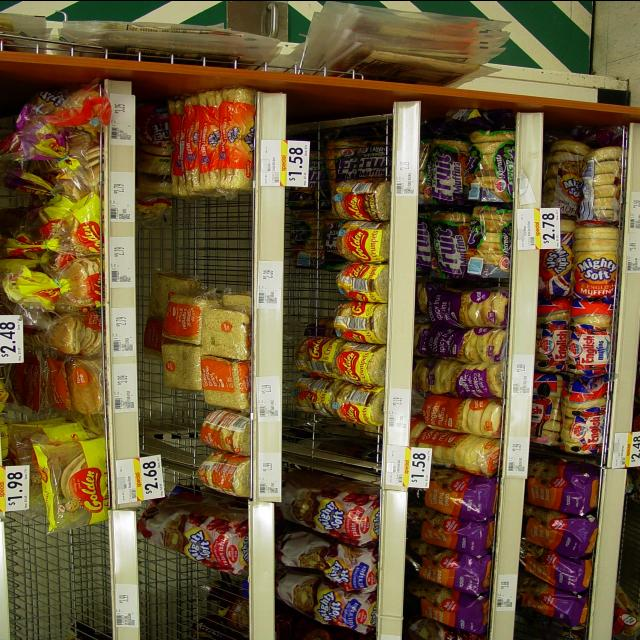empty_space: (12, 531, 102, 633), (147, 208, 243, 273), (165, 575, 231, 633), (315, 123, 385, 167), (161, 398, 191, 474), (293, 430, 379, 453)
